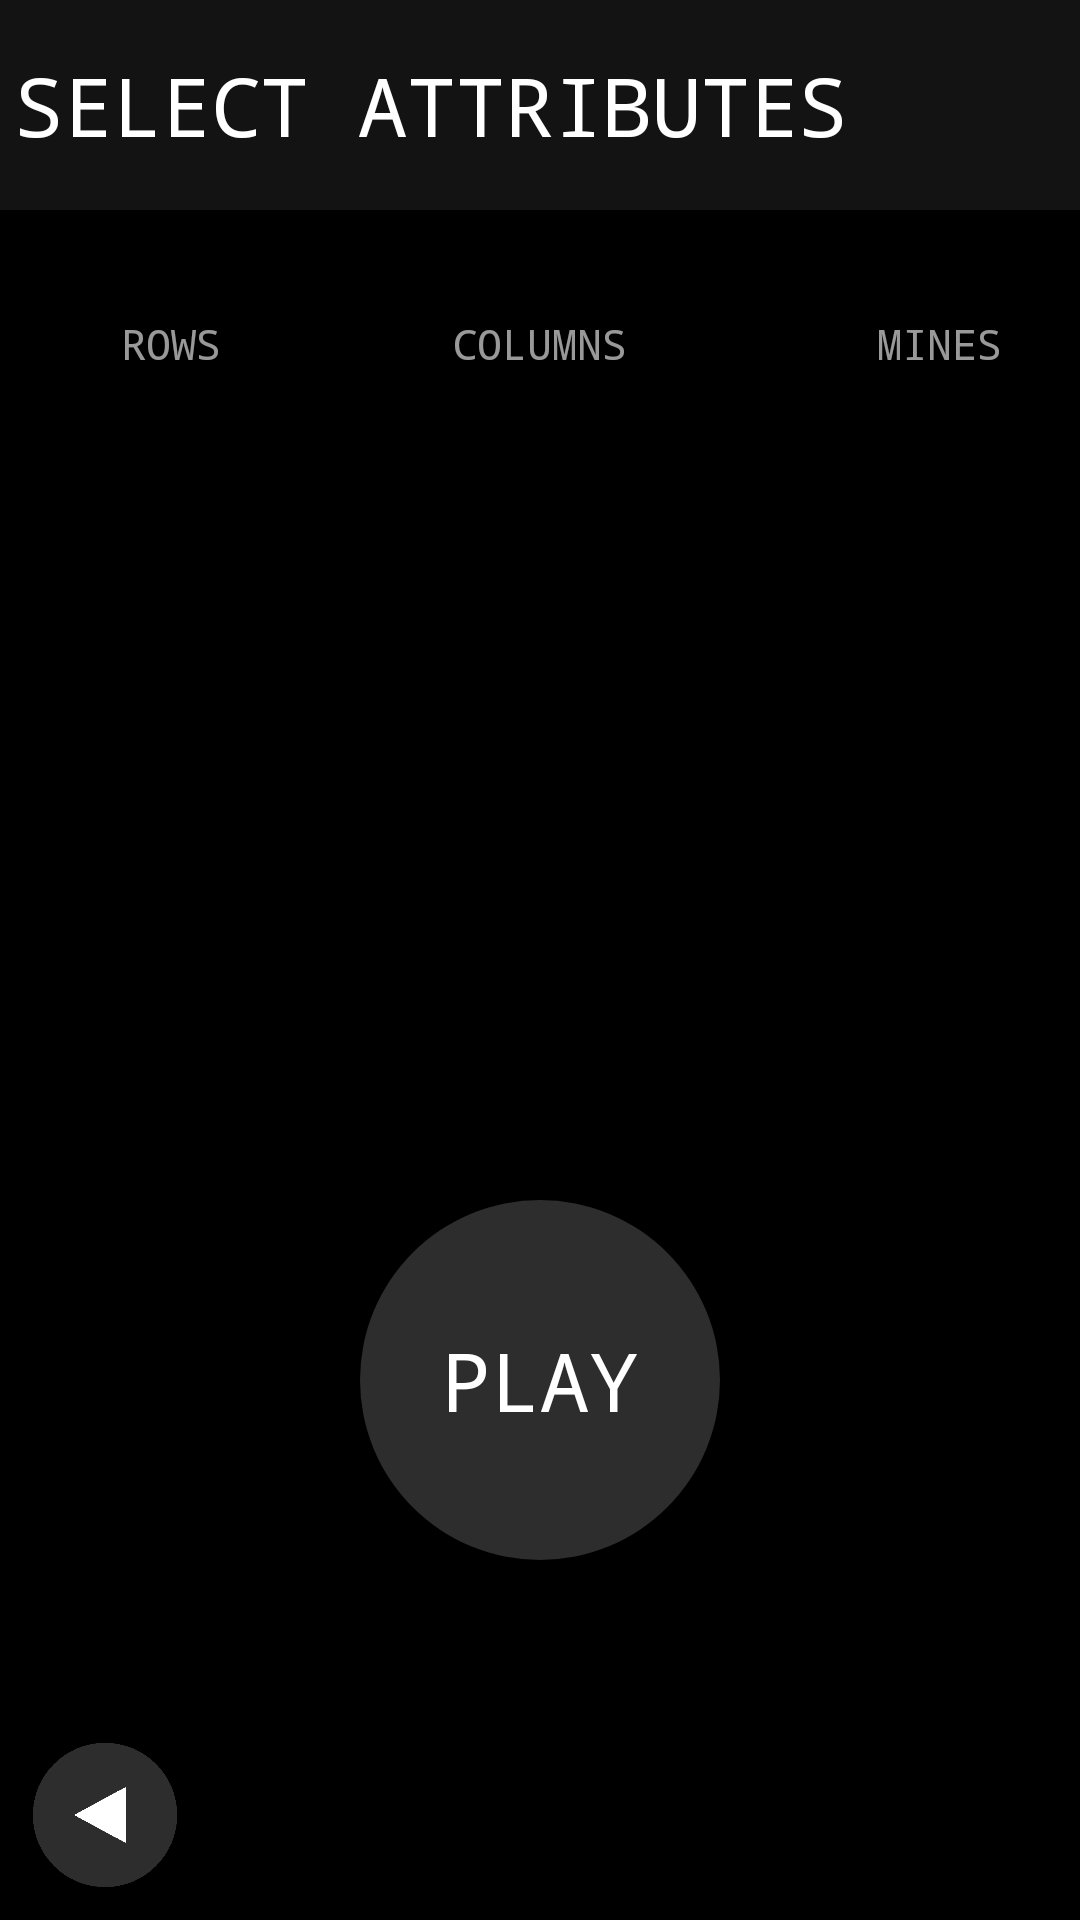

Where icons sit on this 1080px×1920px app screen, as (x1=x1, y1=y1, x2=x2, y2=y2):
darktriangleleft: (x1=33, y1=1743, x2=177, y2=1887)
